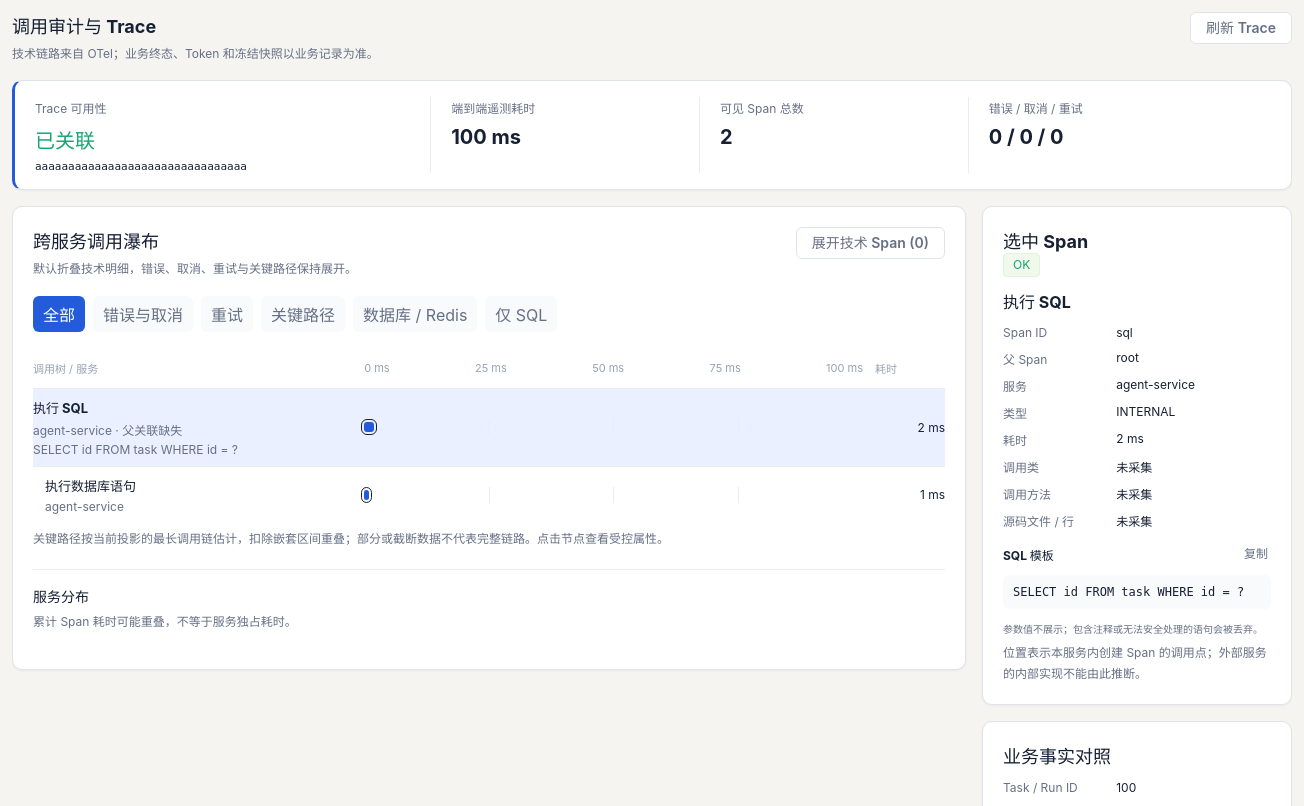
technical Trace and authoritative facts › links a database execution to its direct SQL parent and filters to SQL-bearing spans
Click the button "数据库 / Redis" at (415, 314), box [353,296,477,332]
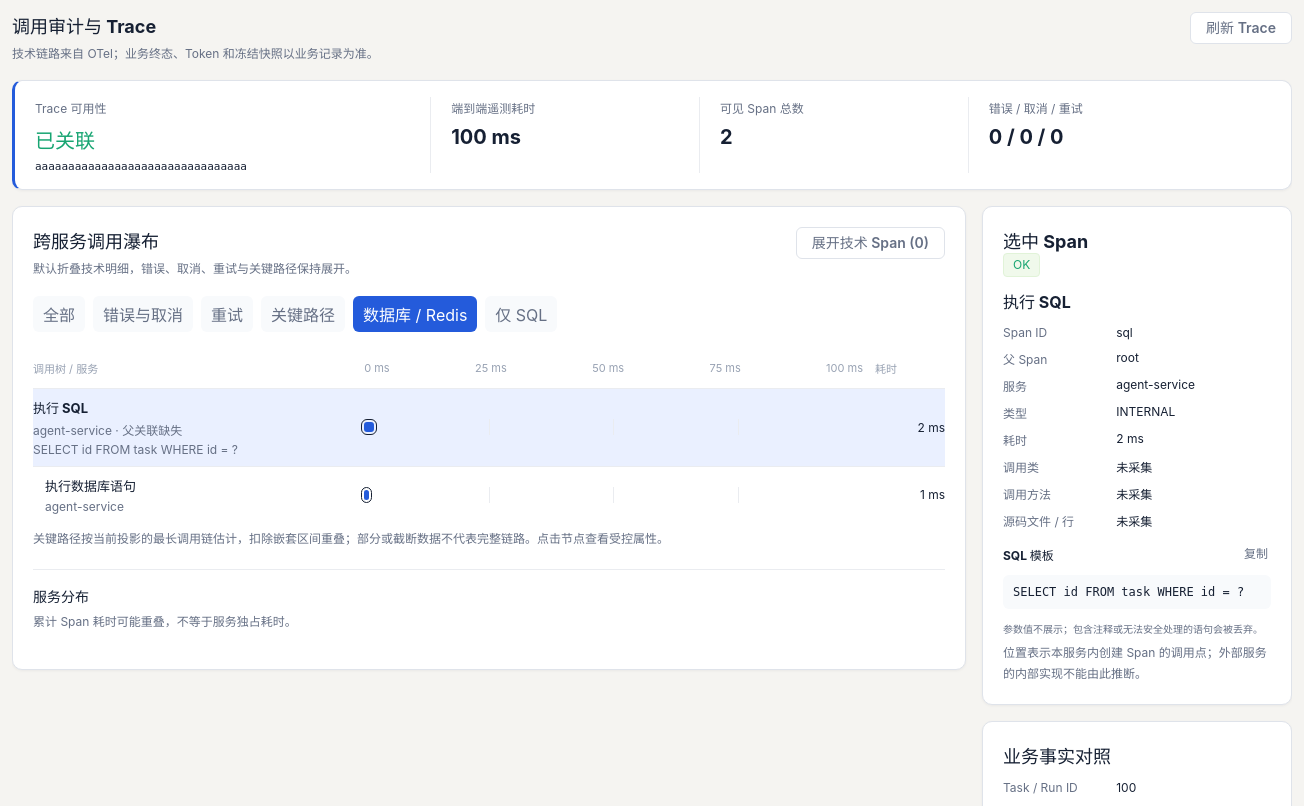
Click the button with class "span-row" showing "执行数据库语句 agent-service 1 ms" at (489, 494), box [33,466,945,523]
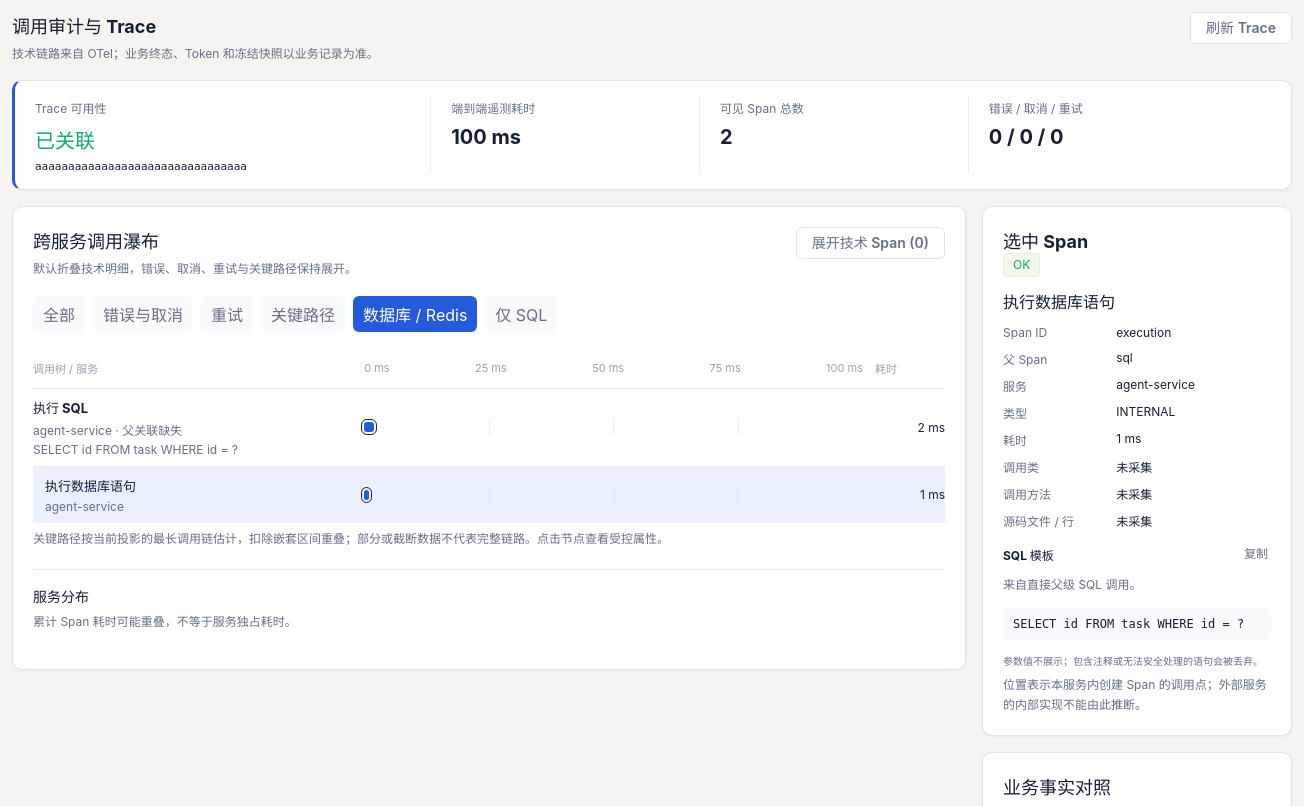
Check: the element with class "trace-sql" shows "SELECT id FROM task WHERE id = ?", box [1013,617,1244,631]
Check: the element with class "trace-sql" shows "来自直接父级 SQL 调用", box [1003,577,1141,592]
Click the button "仅 SQL" at (521, 314), box [485,296,557,332]
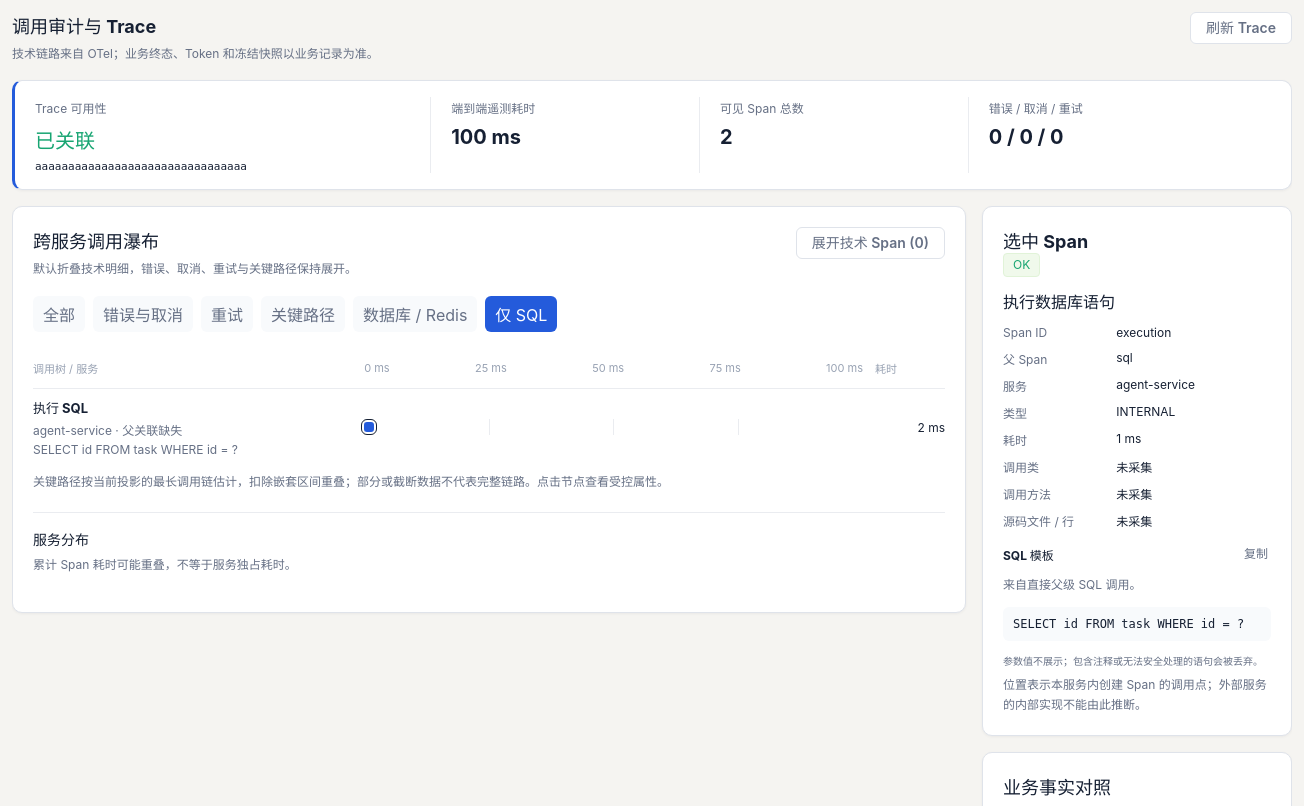
Check: the number of buttons with class "span-row" is 1, box [33,388,945,466]
